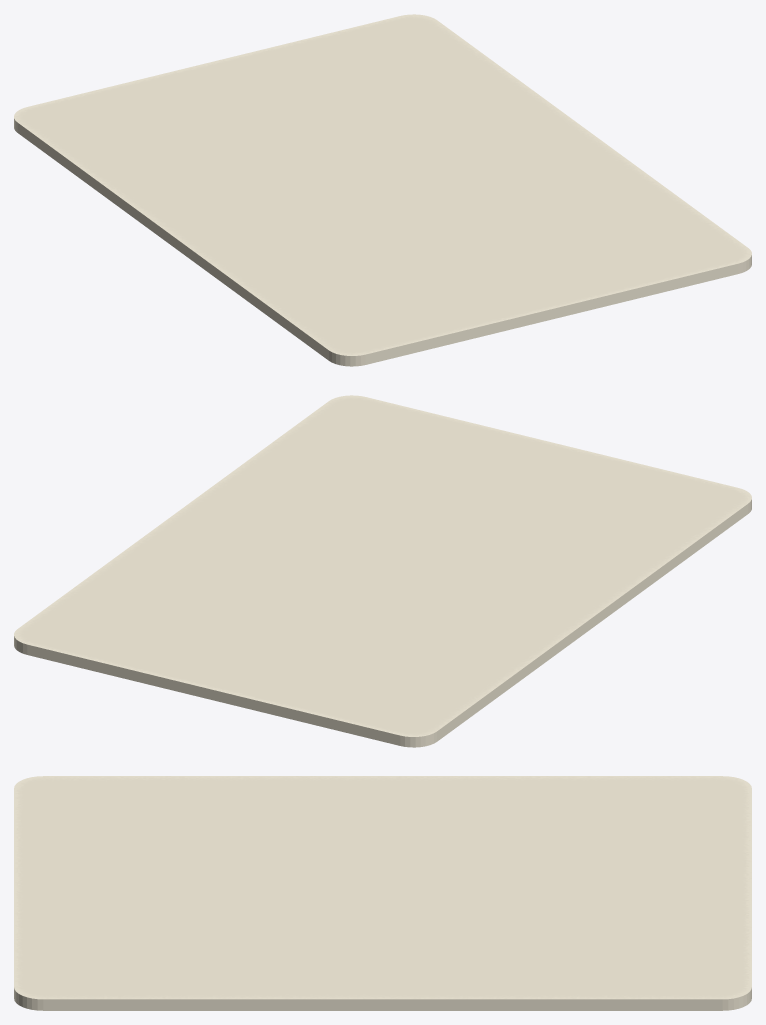
3 renders of one model, top to bottom at view 1: azimuth 30°, elevation 25°; view 2: azimuth 150°, elevation 25°; view 3: azimuth 270°, elevation 25°, orthographic. The views are drawn at different scales.
Parts seen in each view (by area): view 1: CardFace, CardEdge; view 2: CardFace, CardEdge; view 3: CardFace, CardEdge.
Part boxes in pixels (x1=…): CardFace: x1=14, y1=14, x2=751, y2=355; CardEdge: x1=14, y1=118, x2=751, y2=366; CardFace: x1=14, y1=395, x2=751, y2=736; CardEdge: x1=14, y1=499, x2=751, y2=747; CardFace: x1=14, y1=776, x2=751, y2=999; CardEdge: x1=14, y1=988, x2=751, y2=1010.
Bounding box in the file's own units: 0.063 × 0.0017 × 0.088.
Materials: 1 (1 with a texture image).
